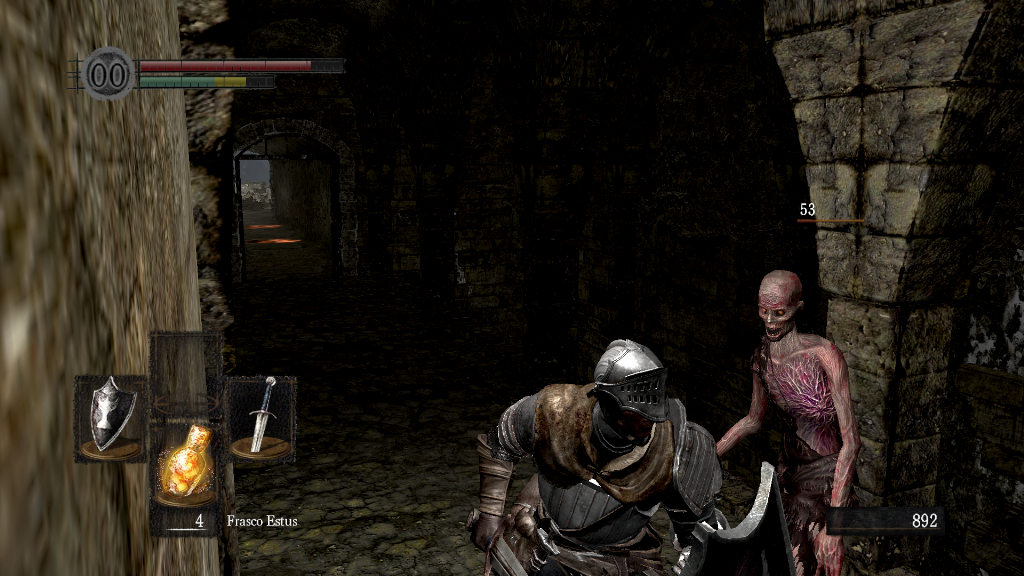health: (138, 58, 343, 71)
hollow: (717, 269, 858, 576)
humanity: (80, 45, 136, 102)
player: (464, 339, 797, 576)
souls: (825, 506, 945, 536)
stamina: (138, 74, 274, 88)
